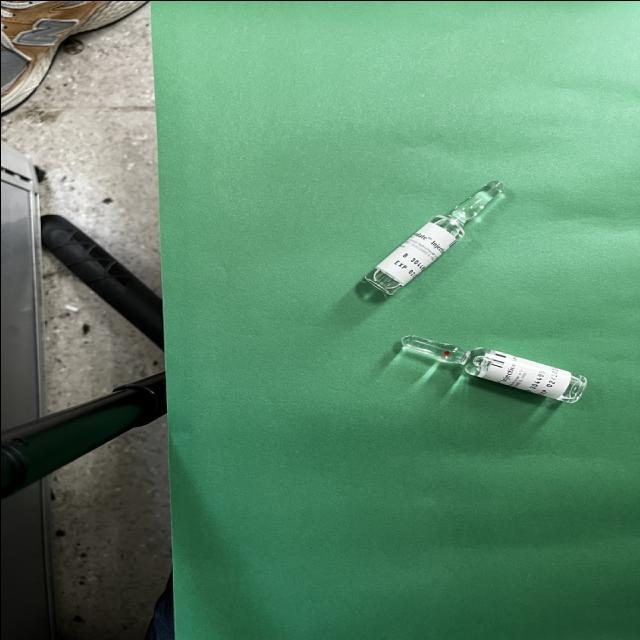Ampoules: (362, 180, 501, 294), (401, 334, 585, 402)
